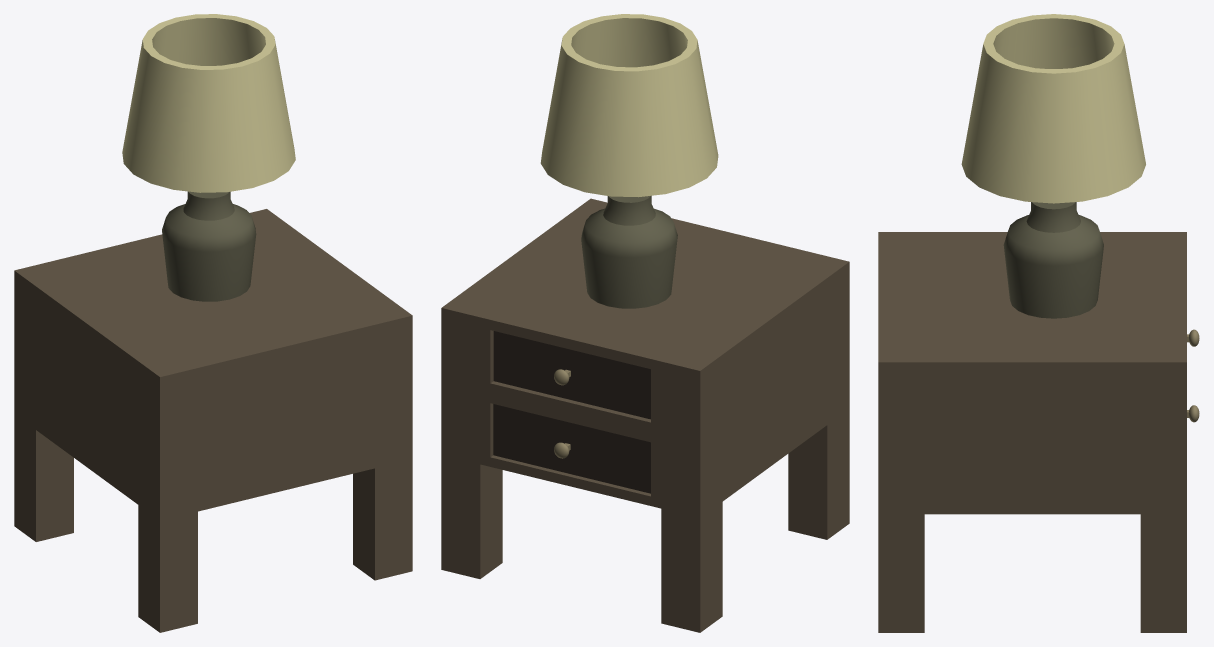
Rendered from OrganizedNightStand.fbx.
3 views of the same model, side by side, from view 1: azimuth 30°, elevation 25°; view 2: azimuth 150°, elevation 25°; view 3: azimuth 270°, elevation 25° (orthographic). The views are drawn at different scales.
Parts seen in each view (by area): view 1: OrganizedNightStand1; view 2: OrganizedNightStand1; view 3: OrganizedNightStand1.
Part boxes in pixels (x1,y1,x2,y2): OrganizedNightStand1: [14, 14, 412, 632]; OrganizedNightStand1: [441, 14, 849, 632]; OrganizedNightStand1: [878, 14, 1199, 632].
Size of the model in its own units: 0.5169 by 0.9737 by 0.5377.
